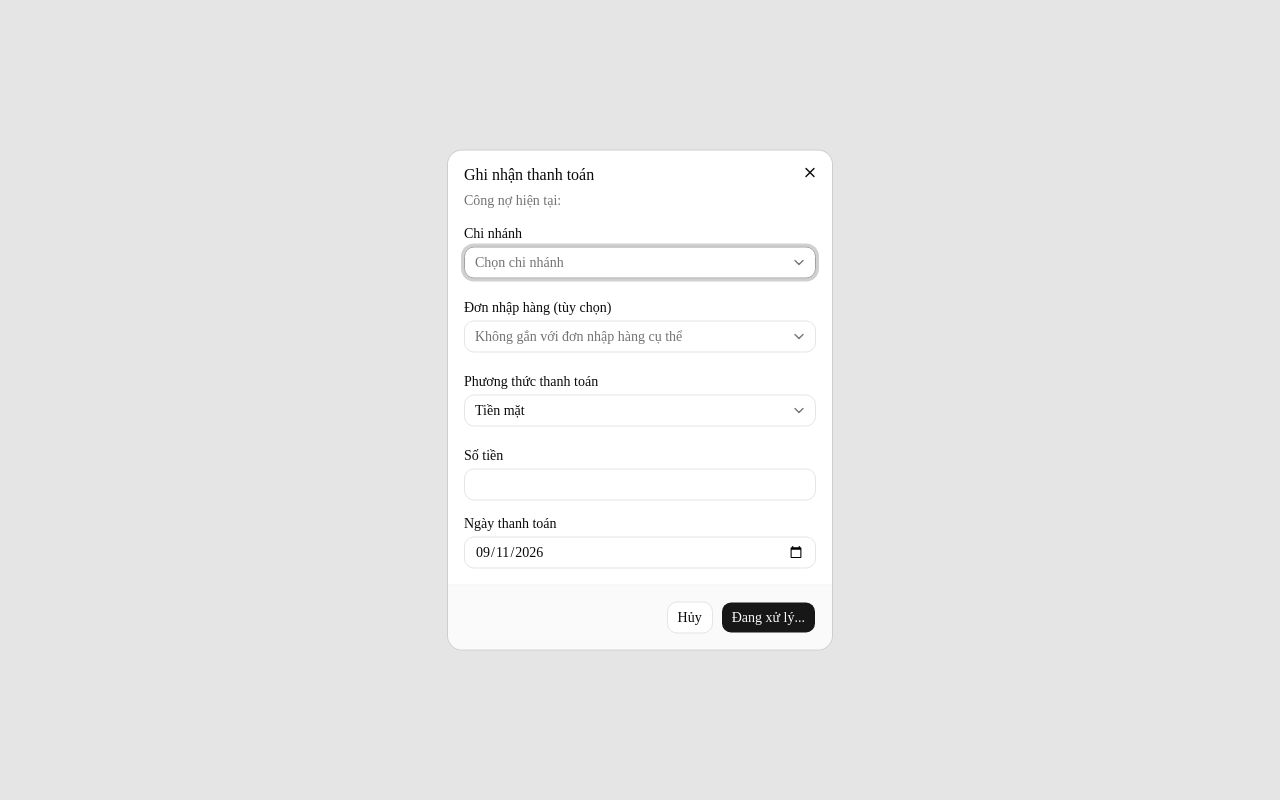
Scenario: SupplierPaymentDialog (T052.05C) › offers exactly the 4 canonical payment methods
This screenshot has width=1280, height=800.
Click the dropdown named "Phương thức thanh toán" at (500, 410), box [464,394,816,426]
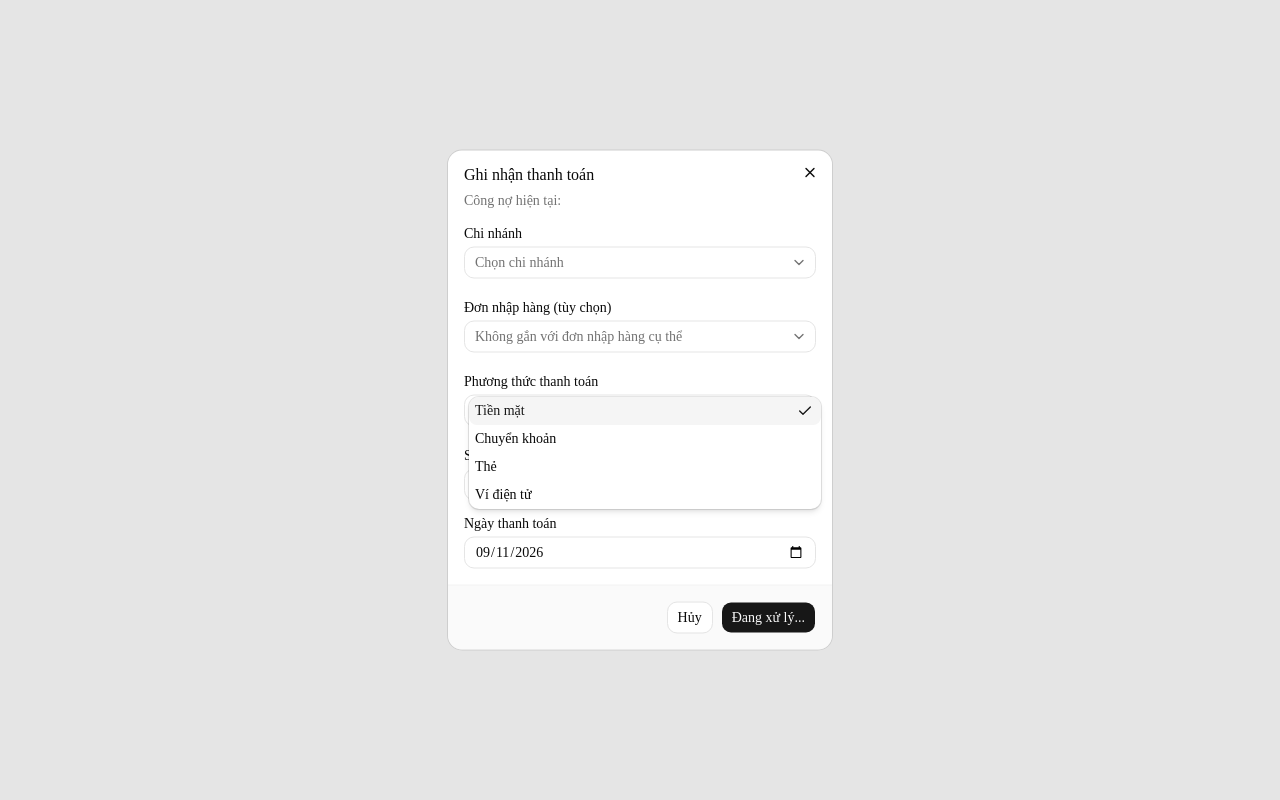
Expected: the option "Tiền mặt" is shown, [469,396,821,424]
Expected: the option "Chuyển khoản" is shown, [475,430,556,446]
Expected: the option "Thẻ" is shown, [475,458,497,474]
